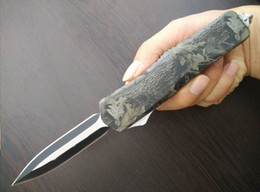knife: (7, 35, 213, 188)
